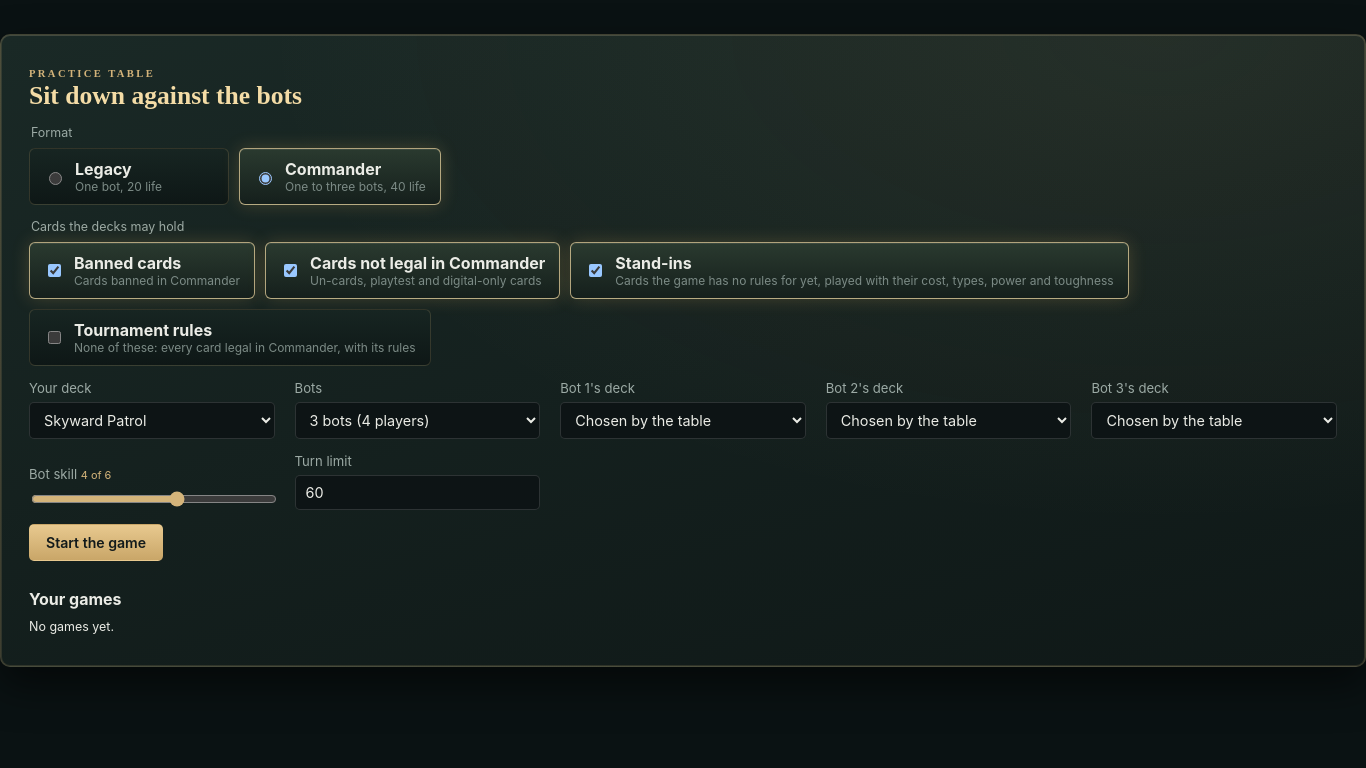
the practice table for a player (v0.3.1) › says so for the format they choose, too
Click the radio button labelled "Legacy One bot, 20 life".
click(56, 178)  # box [49, 172, 62, 184]
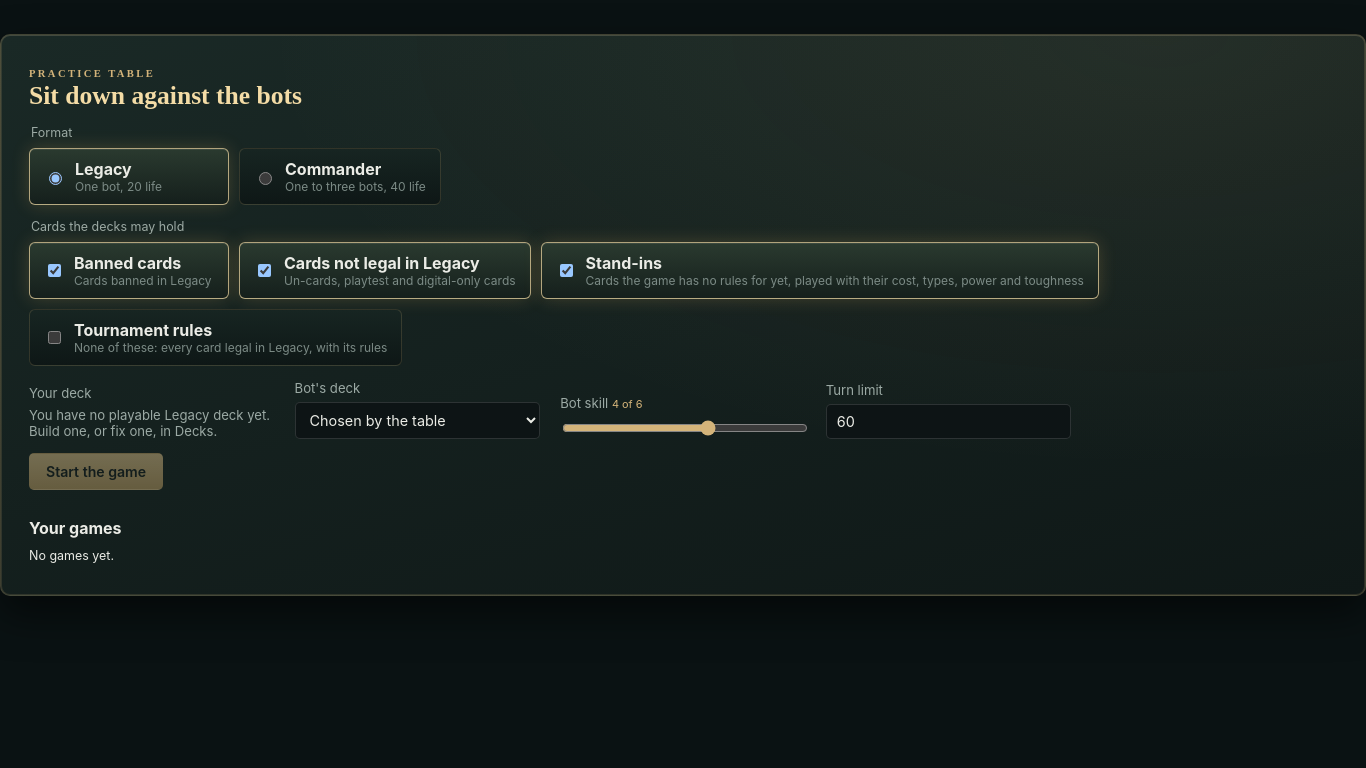
expect the text "You have no playable Legacy deck yet" is shown: met, box [29, 407, 275, 439]
expect the button "Start the game" is disabled: met, box [29, 453, 163, 490]
Click the radio button labelled "Commander One to three bots, 40 life".
click(266, 178)  # box [259, 172, 272, 184]
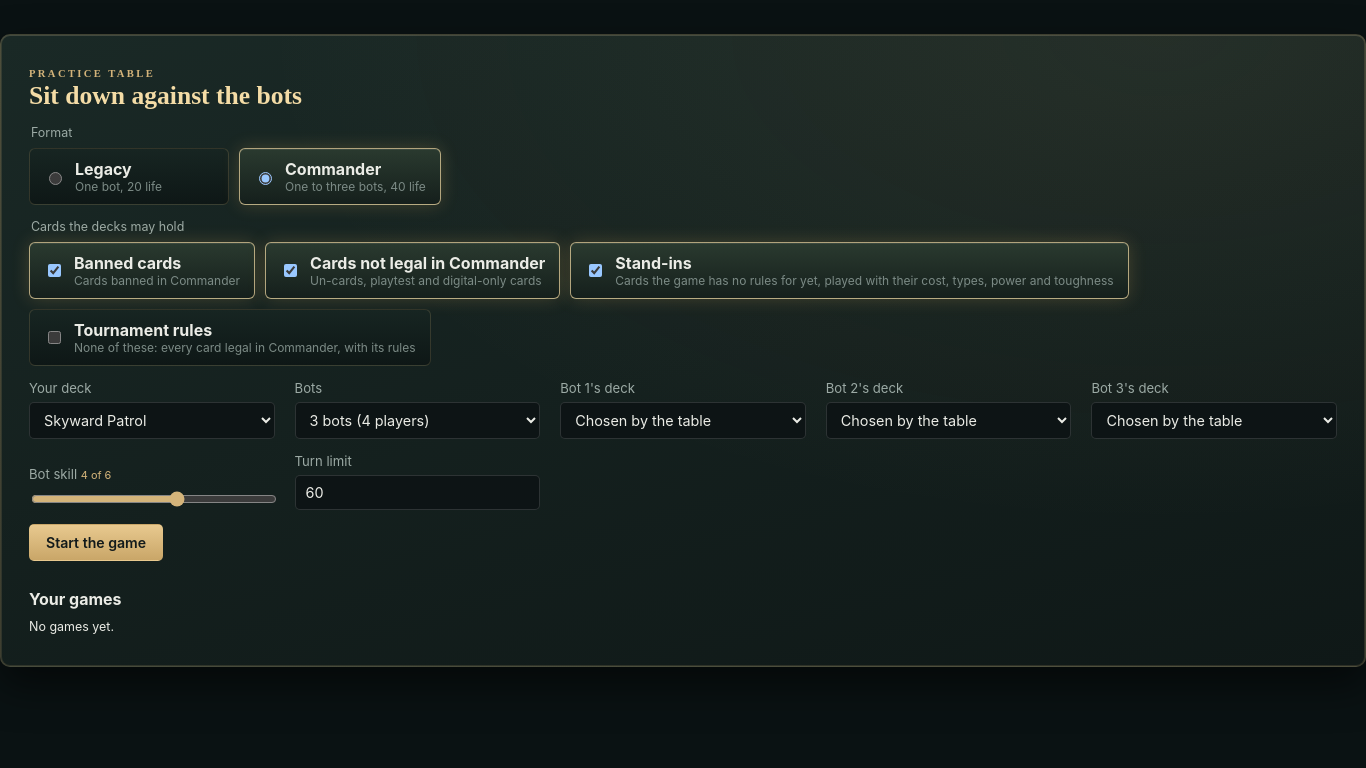
expect the dropdown labelled "Your deck" shows "Skyward Patrol": met, box [29, 402, 275, 439]
expect the button "Start the game" is enabled: met, box [29, 524, 163, 561]
